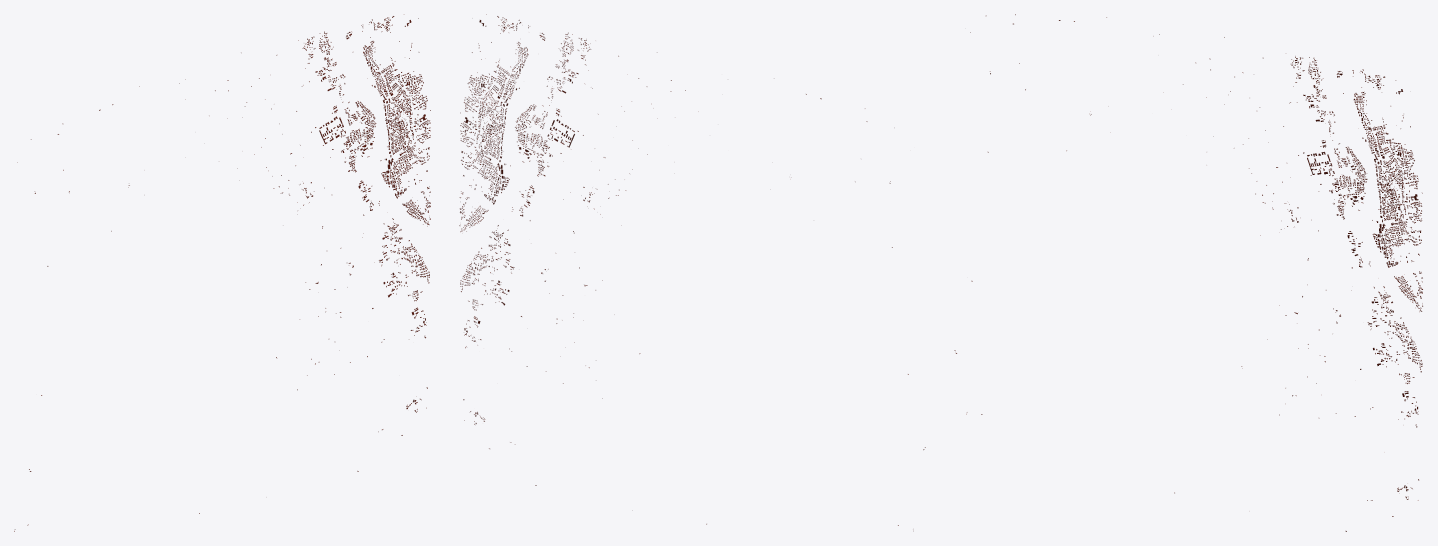
Rendered from buildings.glb.
The picture shows the model from 3 angles, left to right: view 1: azimuth 30°, elevation 25°; view 2: azimuth 150°, elevation 25°; view 3: azimuth 330°, elevation 25°; orthographic projection. The views are drawn at different scales.
Parts seen in each view (by area): view 1: map_12.osm_buildings; view 2: map_12.osm_buildings; view 3: map_12.osm_buildings.
Part boxes in pixels (x1,y1,x2,y2): map_12.osm_buildings: [14, 14, 430, 531]; map_12.osm_buildings: [459, 14, 925, 531]; map_12.osm_buildings: [954, 14, 1423, 531].
Size of the model in its own units: 7487 by 7520 by 773.
